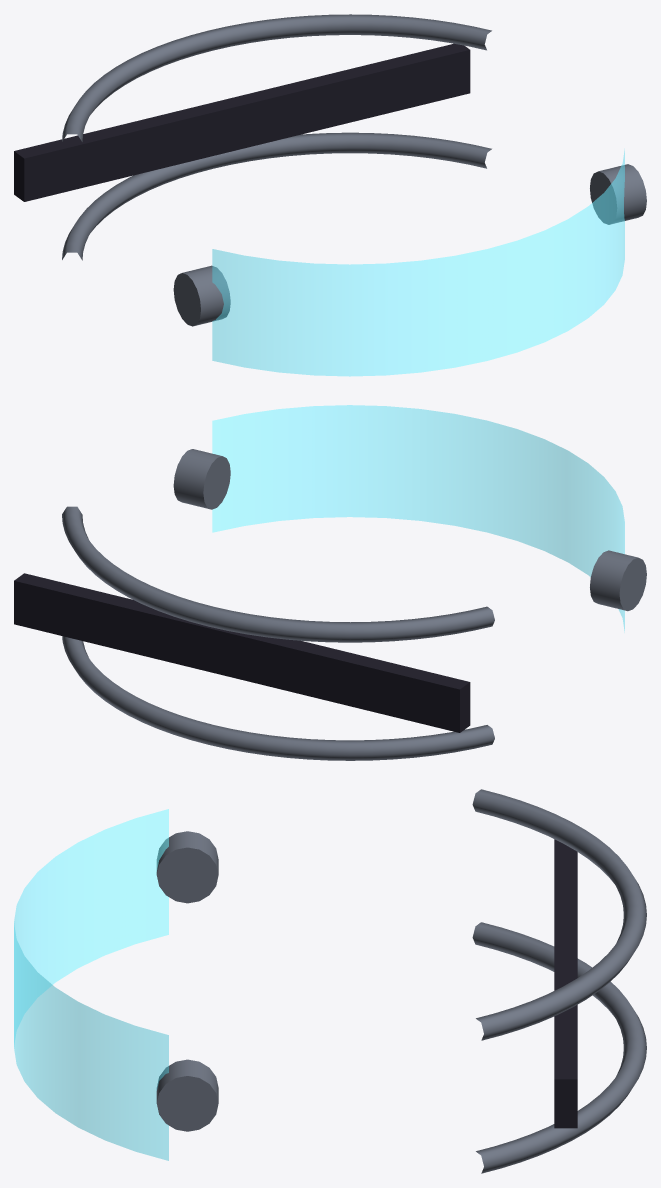
The model's file is gl_eqgw0.glb.
3 renders of one model, top to bottom at view 1: azimuth 30°, elevation 25°; view 2: azimuth 150°, elevation 25°; view 3: azimuth 270°, elevation 25°, orthographic. The views are drawn at different scales.
Bounding box in the file's own units: 2.31 × 0.6652 × 2.53.
